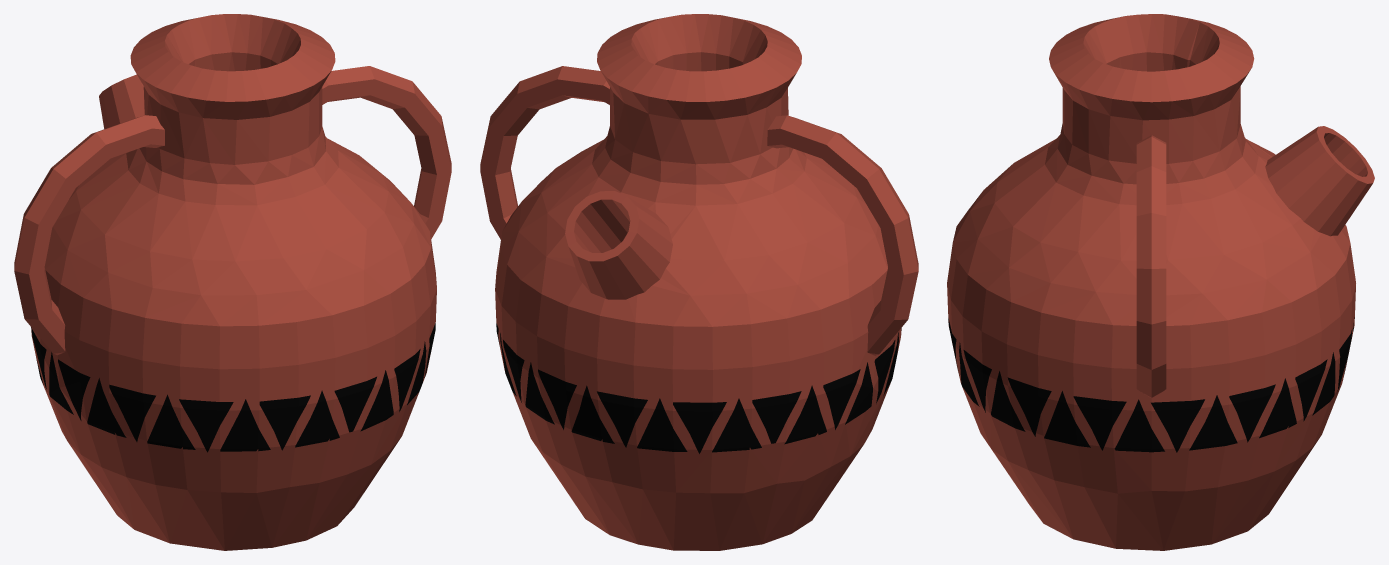
Rendered from Pottery 21_3b.fbx.
The picture shows the model from 3 angles, left to right: view 1: azimuth 30°, elevation 25°; view 2: azimuth 150°, elevation 25°; view 3: azimuth 270°, elevation 25°; orthographic projection.
Visible parts, largest first — view 1: Pottery 21_3b.004, Pottery 21_3b.005, Pottery 21_3b.002, Pottery 21_3b.003, Pottery 21_3b, Pottery 21_3b.007, Pottery 21_3b.001; view 2: Pottery 21_3b.002, Pottery 21_3b.001, Pottery 21_3b, Pottery 21_3b.003, Pottery 21_3b.006, Pottery 21_3b.005, Pottery 21_3b.004; view 3: Pottery 21_3b.003, Pottery 21_3b.001, Pottery 21_3b.006, Pottery 21_3b, Pottery 21_3b.005, Pottery 21_3b.002, Pottery 21_3b.004, Pottery 21_3b.007.
Part boxes in pixels (x1,y1,x2,y2): Pottery 21_3b.004: [108, 65, 306, 492]; Pottery 21_3b.005: [235, 55, 416, 438]; Pottery 21_3b.002: [14, 35, 190, 392]; Pottery 21_3b.003: [245, 14, 451, 434]; Pottery 21_3b: [32, 337, 399, 550]; Pottery 21_3b.007: [257, 363, 414, 507]; Pottery 21_3b.001: [99, 14, 250, 161]; Pottery 21_3b.002: [673, 46, 918, 408]; Pottery 21_3b.001: [507, 50, 737, 406]; Pottery 21_3b: [531, 327, 900, 550]; Pottery 21_3b.003: [480, 14, 701, 239]; Pottery 21_3b.006: [495, 232, 601, 476]; Pottery 21_3b.005: [694, 14, 779, 71]; Pottery 21_3b.004: [742, 25, 901, 334]; Pottery 21_3b.003: [981, 59, 1266, 493]; Pottery 21_3b.001: [1187, 22, 1374, 357]; Pottery 21_3b.006: [1151, 280, 1353, 491]; Pottery 21_3b: [1006, 438, 1319, 550]; Pottery 21_3b.005: [947, 31, 1106, 398]; Pottery 21_3b.002: [1125, 14, 1221, 71]; Pottery 21_3b.004: [958, 16, 1133, 224]; Pottery 21_3b.007: [961, 373, 1027, 481].
Bounding box in the file's own units: 65.52 × 65.33 × 55.48.
